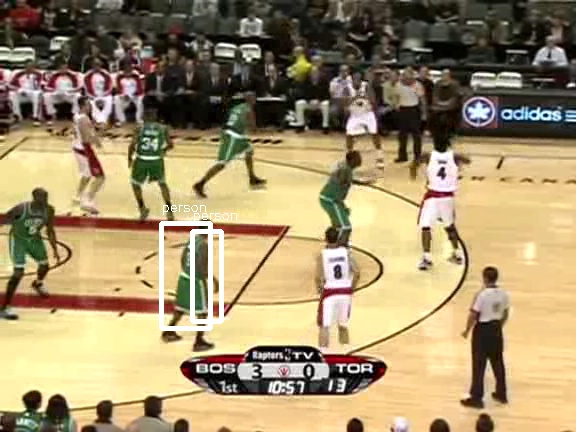person: (178, 237, 212, 318), (177, 237, 211, 318), (179, 237, 213, 318), (178, 236, 212, 317), (178, 238, 212, 319)
target_negative: (213, 147, 463, 432), (223, 354, 323, 406), (177, 402, 449, 410), (359, 58, 450, 68), (432, 412, 527, 418), (395, 376, 397, 414)
